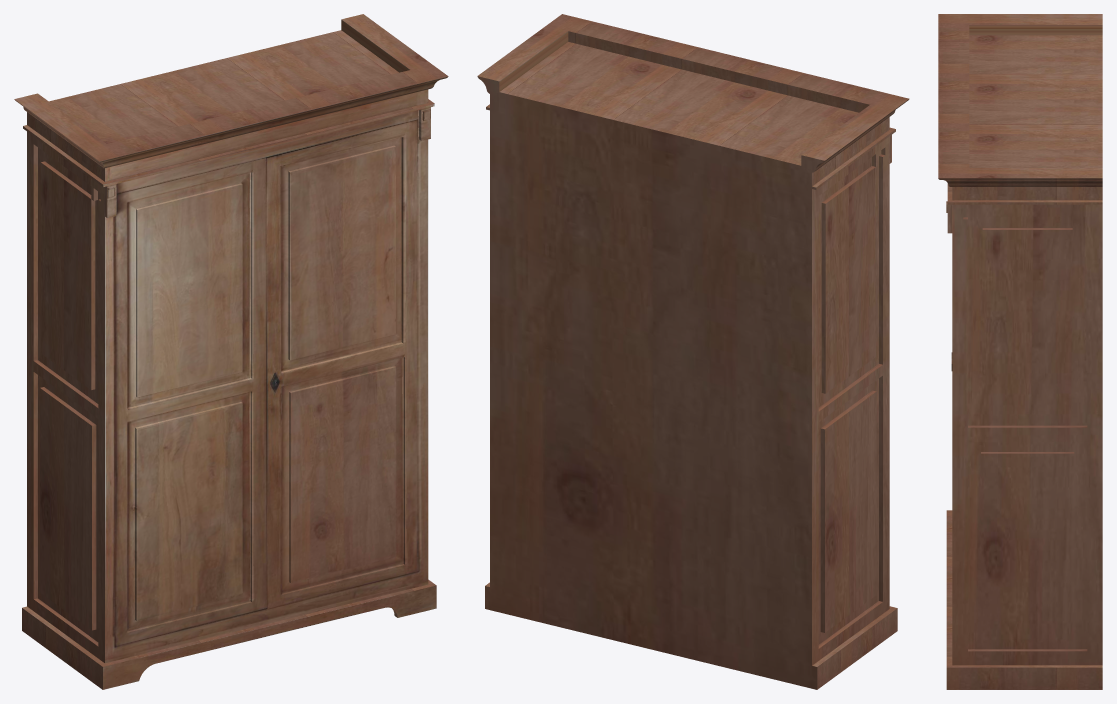
Rendered from Armoire2.FBX.
The picture shows the model from 3 angles, left to right: view 1: azimuth 30°, elevation 25°; view 2: azimuth 150°, elevation 25°; view 3: azimuth 270°, elevation 25°; orthographic projection. The views are drawn at different scales.
Visible parts, largest first — view 1: Model; view 2: Model; view 3: Model.
Boxes of the visible parts, x1,y1,x2,y2 form: Model: (14, 14, 448, 689); Model: (477, 14, 909, 689); Model: (938, 14, 1102, 689).
Size of the model in its own units: 130 by 190 by 55.
7 materials, 7 textured.
